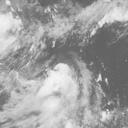cyclone: (34, 63, 79, 108)
